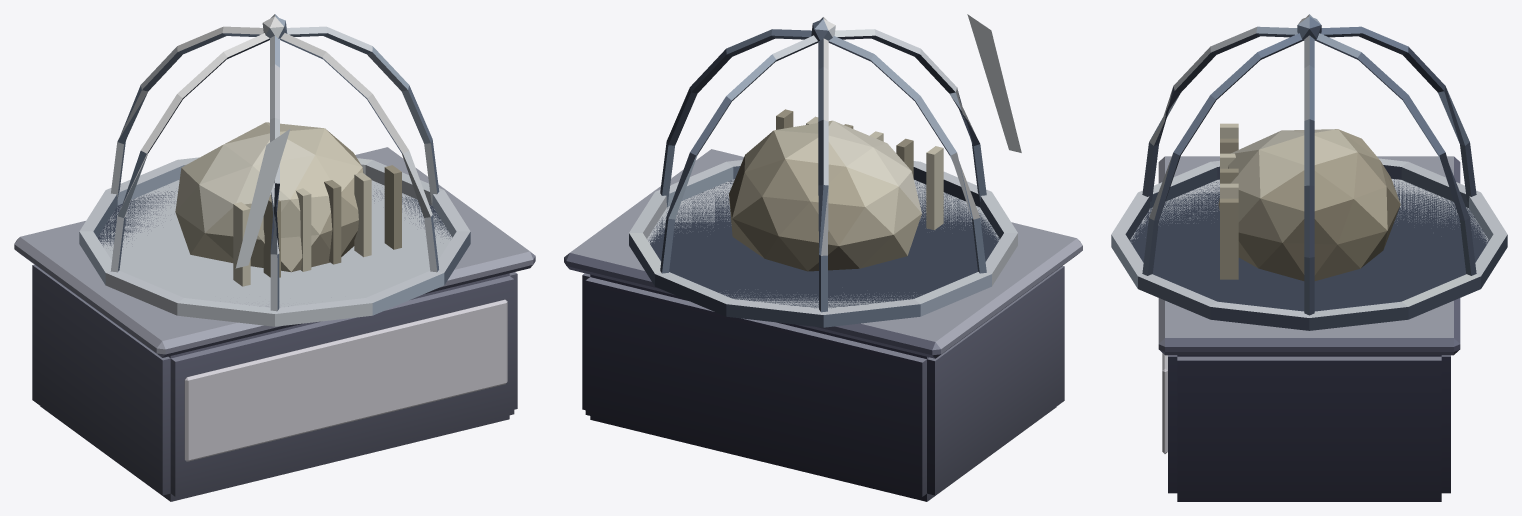
Rendered from fossil_case.glb.
The picture shows the model from 3 angles, left to right: view 1: azimuth 30°, elevation 25°; view 2: azimuth 150°, elevation 25°; view 3: azimuth 270°, elevation 25°; orthographic projection.
Parts seen in each view (by area): view 1: fossil_case; view 2: fossil_case; view 3: fossil_case.
Boxes of the visible parts, bbox=[...] form: fossil_case: bbox=[14, 14, 535, 501]; fossil_case: bbox=[564, 14, 1082, 501]; fossil_case: bbox=[1111, 14, 1507, 501].
Size of the model in its own units: 0.94 by 0.94 by 0.84.
